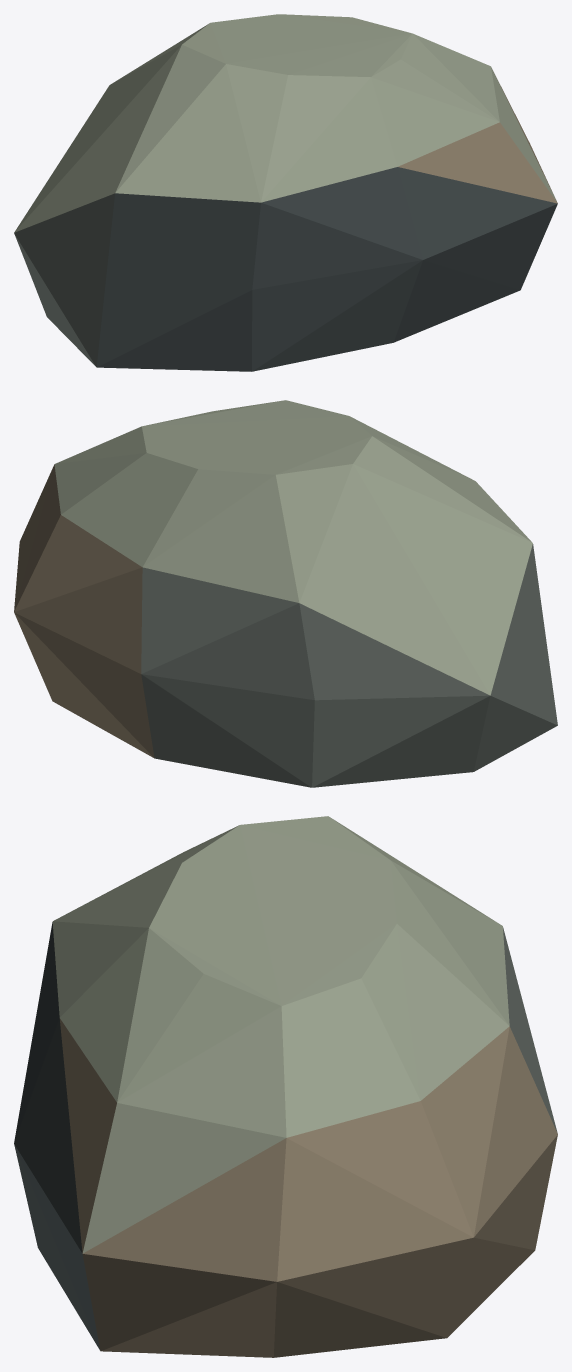
Rendered from TW_ROCK_LOW_WEDGE_A_LOD0.glb.
The picture shows the model from 3 angles, top to bottom: view 1: azimuth 30°, elevation 25°; view 2: azimuth 150°, elevation 25°; view 3: azimuth 270°, elevation 25°; orthographic projection. The views are drawn at different scales.
Visible parts, largest first — view 1: TW_ROCK_LOW_WEDGE_A_LOD0; view 2: TW_ROCK_LOW_WEDGE_A_LOD0; view 3: TW_ROCK_LOW_WEDGE_A_LOD0.
Part boxes in pixels (<box>): TW_ROCK_LOW_WEDGE_A_LOD0: <box>14,14,557,371</box>; TW_ROCK_LOW_WEDGE_A_LOD0: <box>14,400,557,787</box>; TW_ROCK_LOW_WEDGE_A_LOD0: <box>14,816,557,1357</box>.
Size of the model in its own units: 1.3 by 0.65 by 0.9.
1 material, 1 textured.
